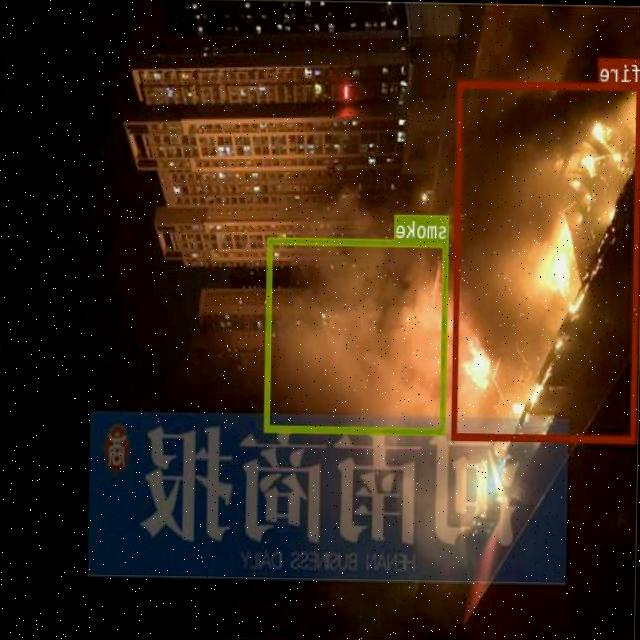fire: (453, 79, 640, 442)
smoke: (266, 236, 448, 434)
